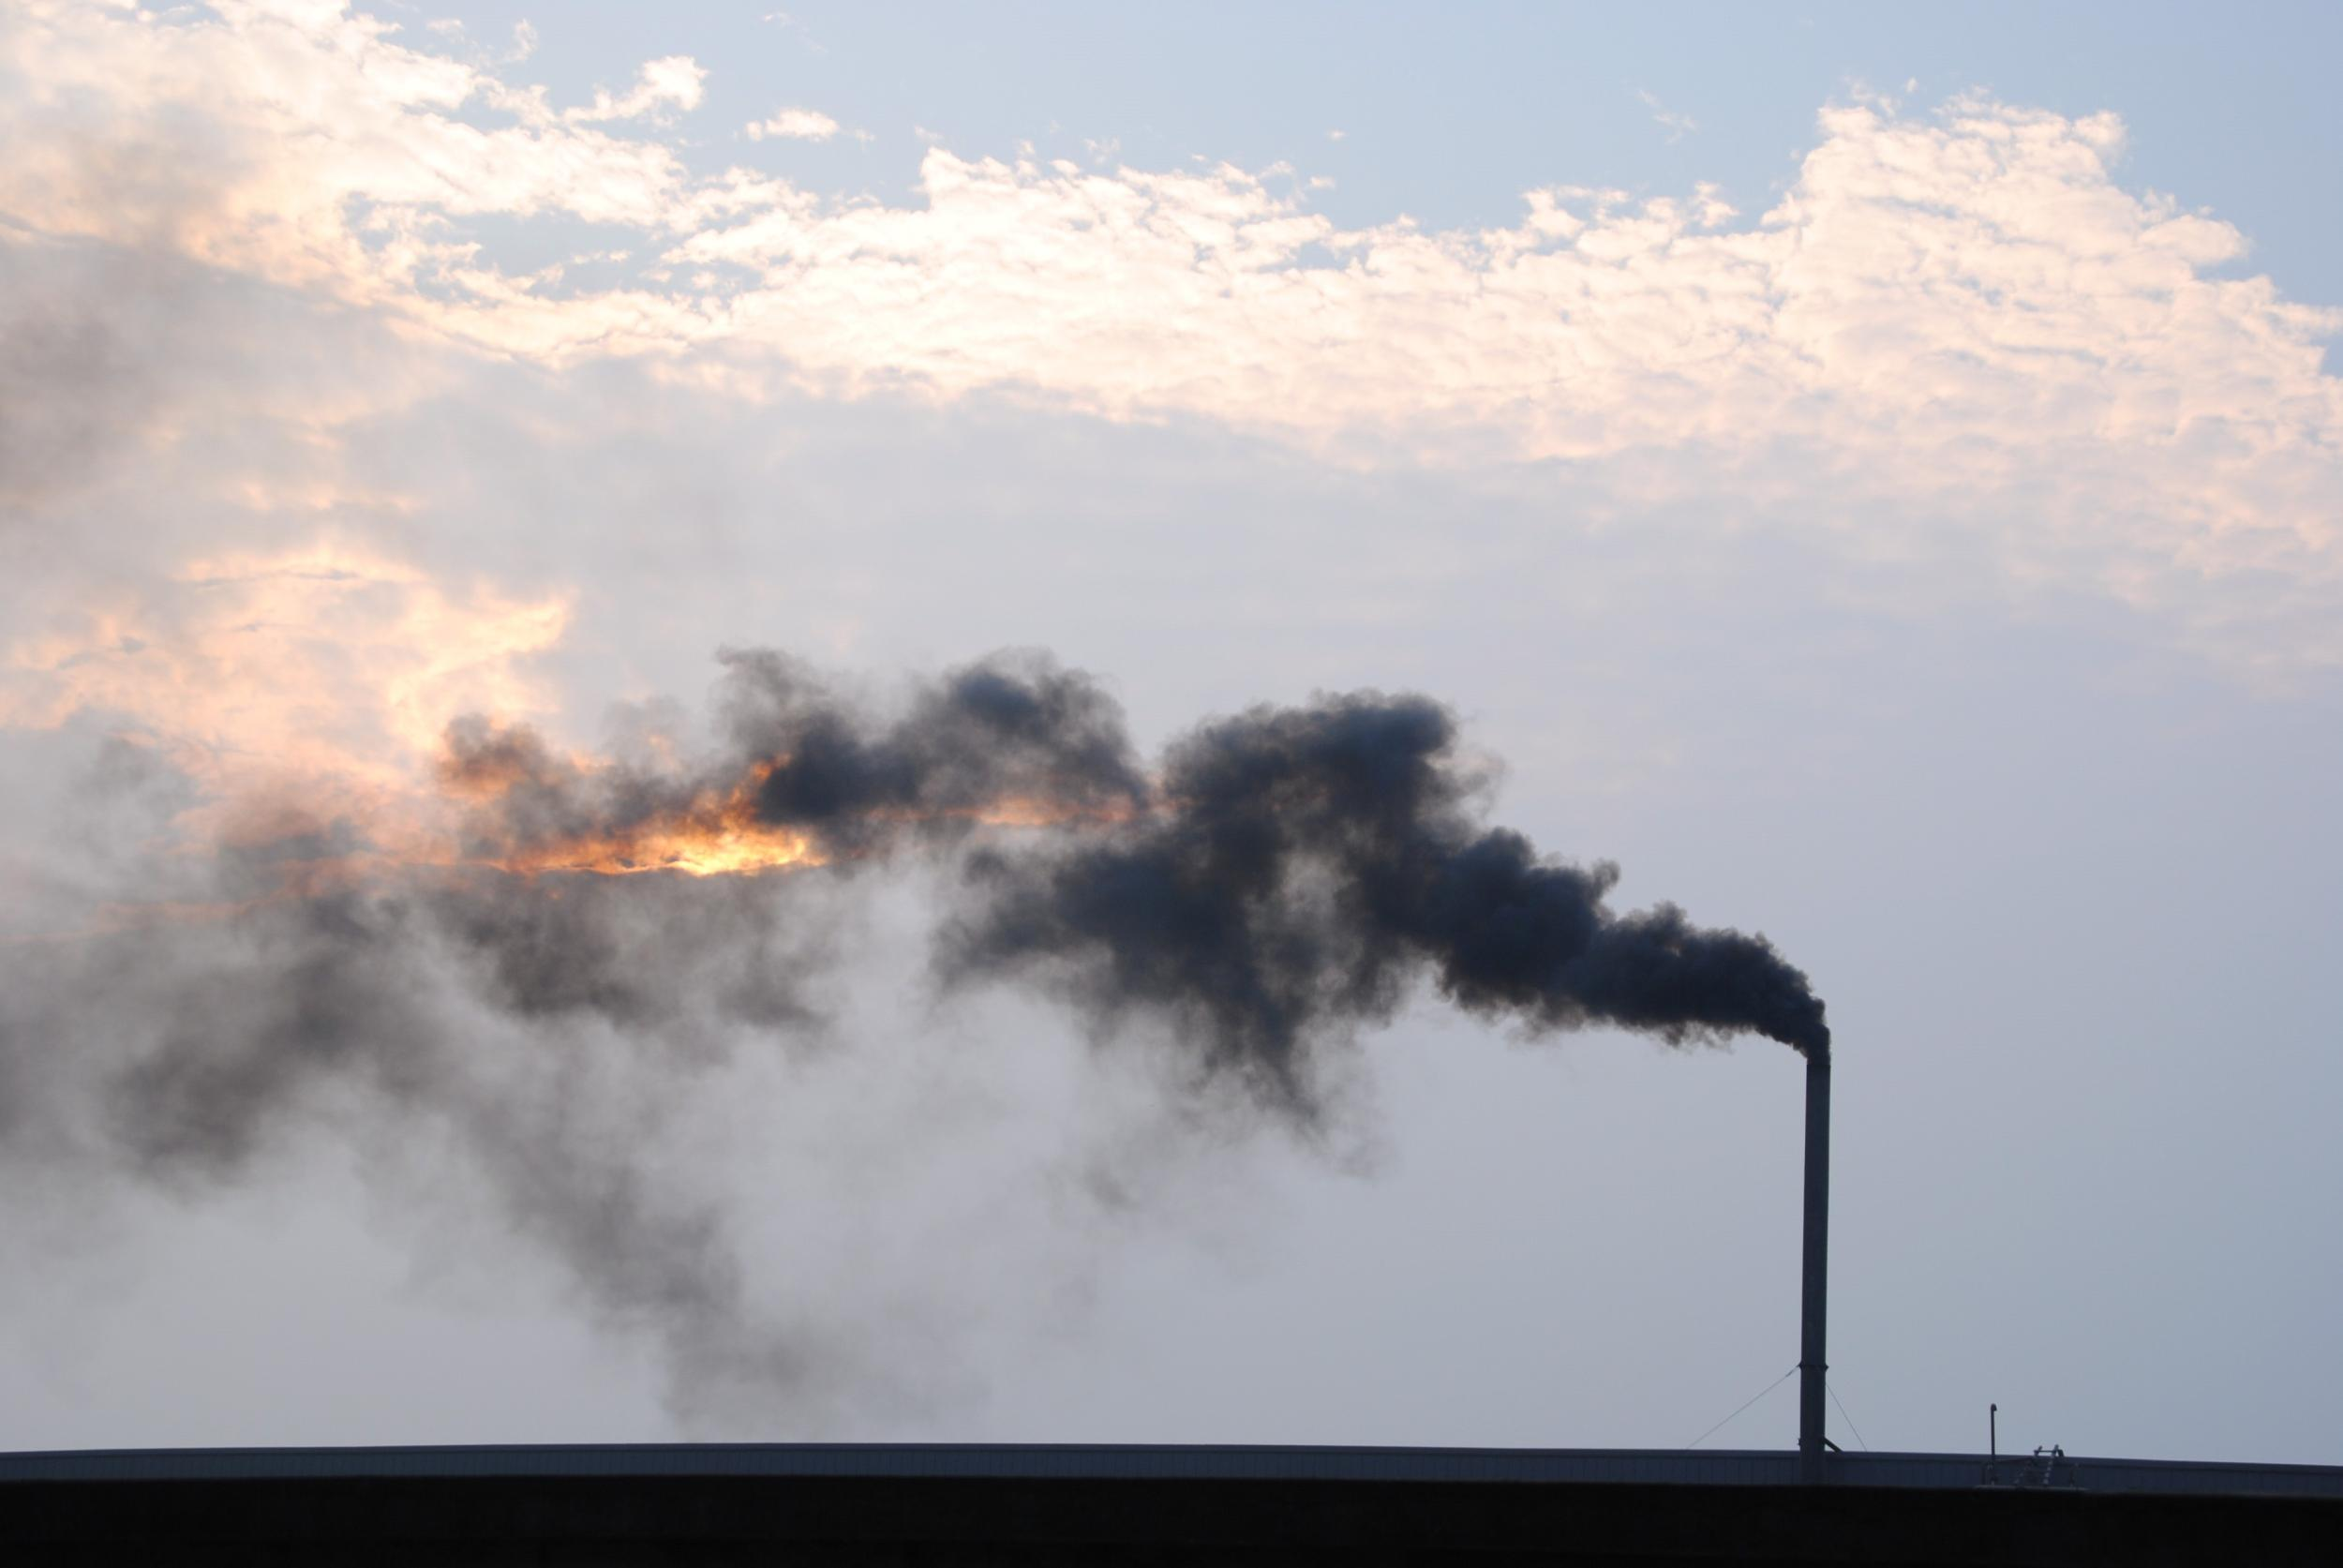dust: (1424, 793, 1853, 1069)
